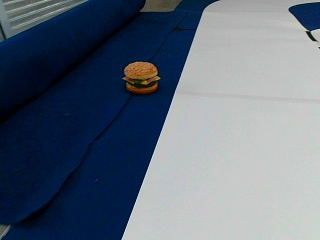burger: (123, 59, 160, 93)
